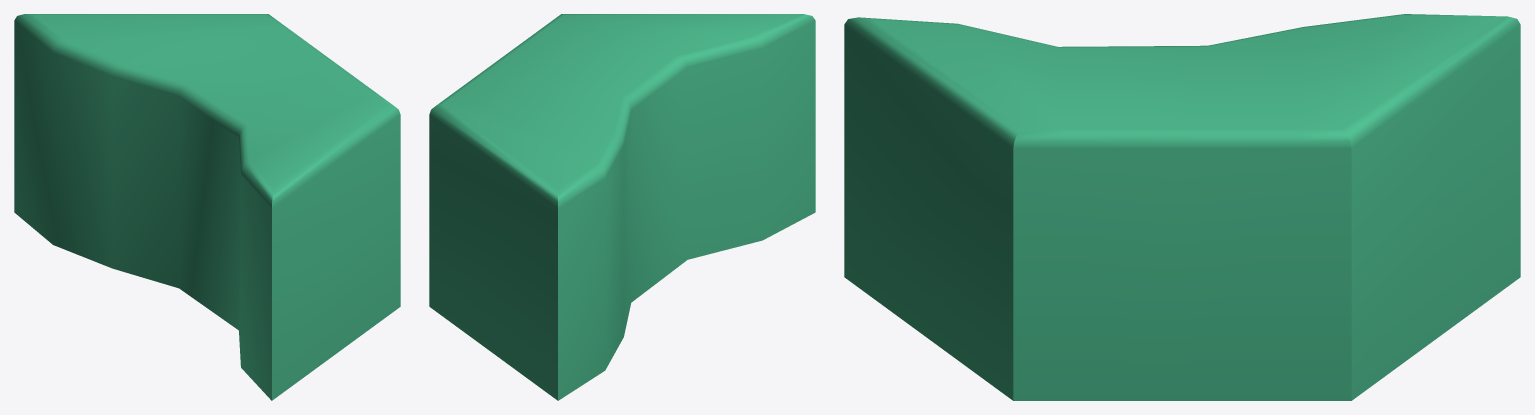
File: kaykit-hex-forest-waterc-empty.glb
3 renders of one model, left to right at view 1: azimuth 30°, elevation 25°; view 2: azimuth 150°, elevation 25°; view 3: azimuth 270°, elevation 25°, orthographic. The views are drawn at different scales.
Visible parts, largest first — view 1: hex_forest_waterC_empty; view 2: hex_forest_waterC_empty; view 3: hex_forest_waterC_empty.
Part boxes in pixels (left/top/right/bottom): hex_forest_waterC_empty: left=14, top=14, right=400, bottom=400; hex_forest_waterC_empty: left=429, top=14, right=815, bottom=400; hex_forest_waterC_empty: left=844, top=14, right=1520, bottom=400.
Bounding box in the file's own units: 1.02 × 1 × 2.31.
